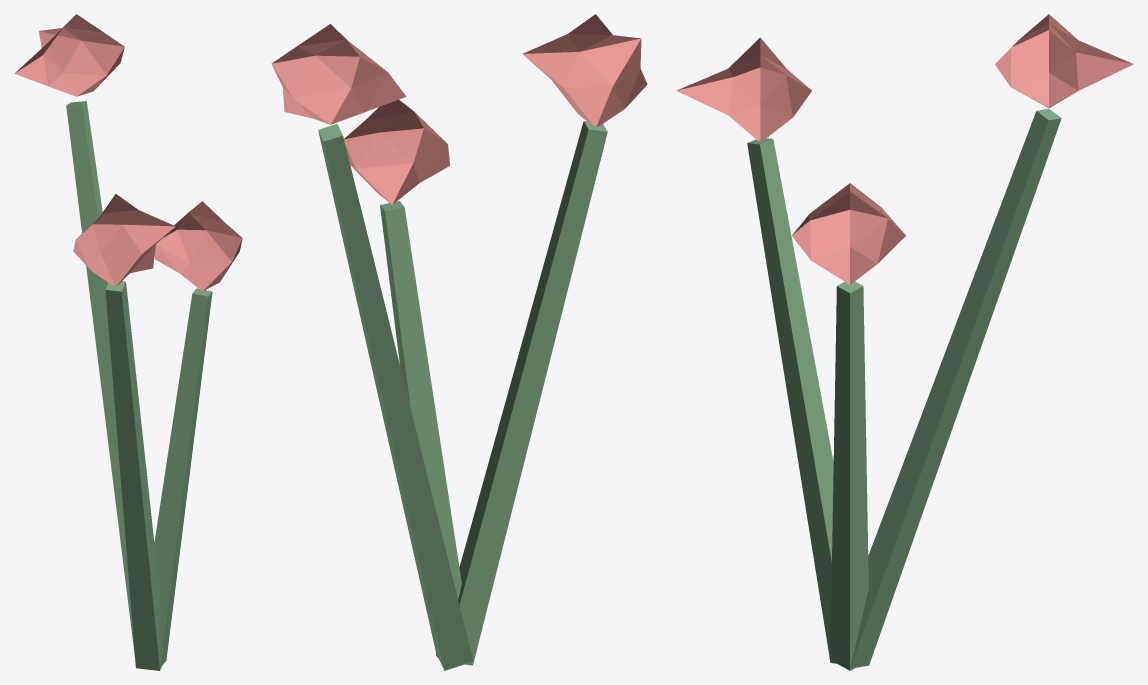
File: flower_v37.glb
The picture shows the model from 3 angles, left to right: view 1: azimuth 30°, elevation 25°; view 2: azimuth 150°, elevation 25°; view 3: azimuth 270°, elevation 25°; orthographic projection. The views are drawn at different scales.
Parts seen in each view (by area): view 1: lod0; view 2: lod0; view 3: lod0.
Boxes of the visible parts, x1,y1,x2,y2 form: lod0: [14, 14, 242, 670]; lod0: [271, 14, 647, 670]; lod0: [676, 14, 1133, 670].
Size of what is drawn, in the model's own units: 0.2455 by 0.6556 by 0.413.
